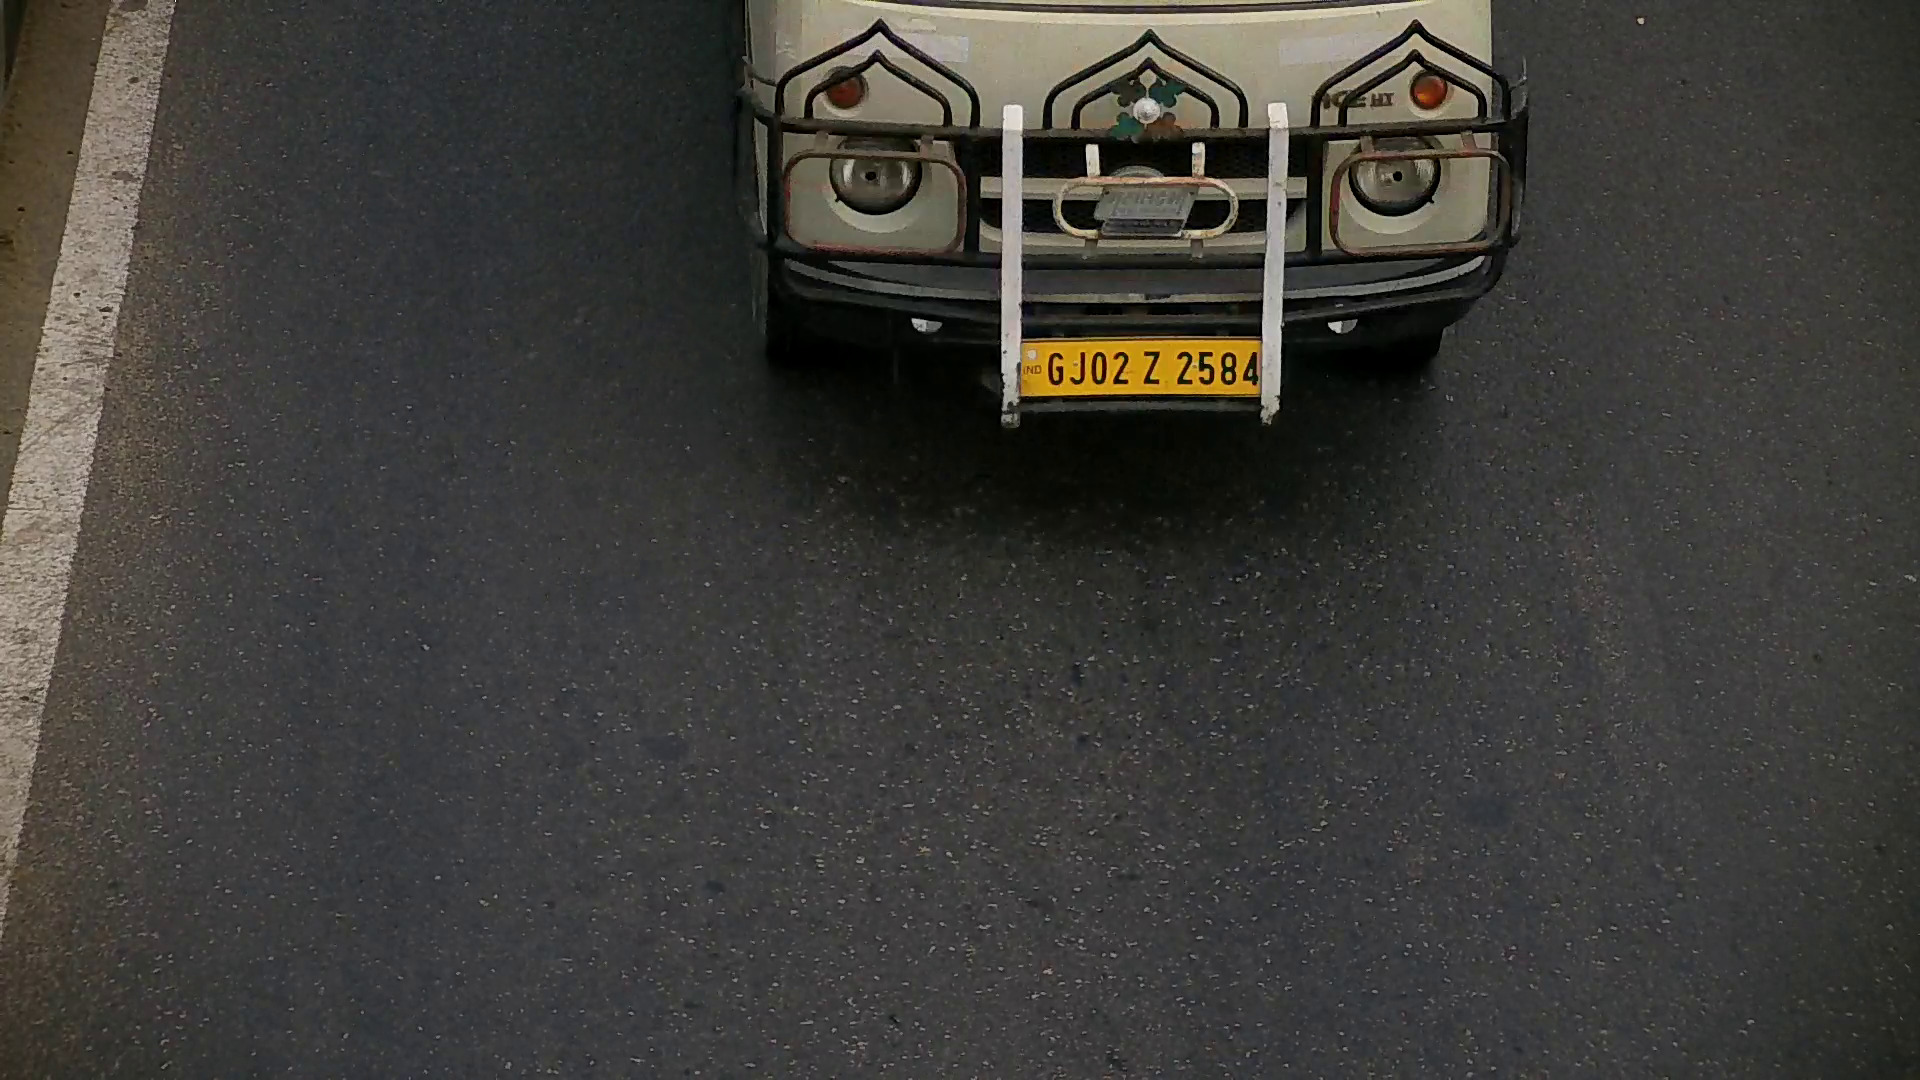numberplate: (1022, 329, 1260, 399)
